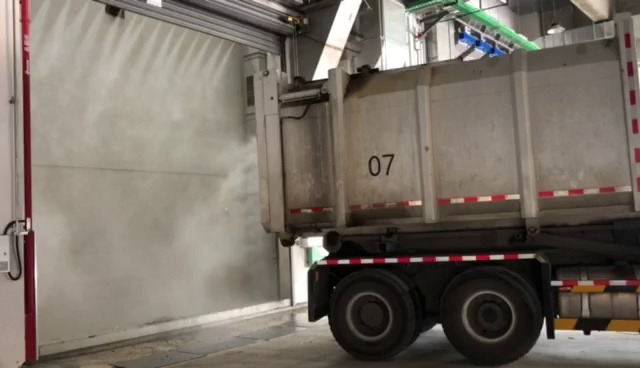dust: (37, 133, 255, 319)
truck: (250, 13, 640, 368)
